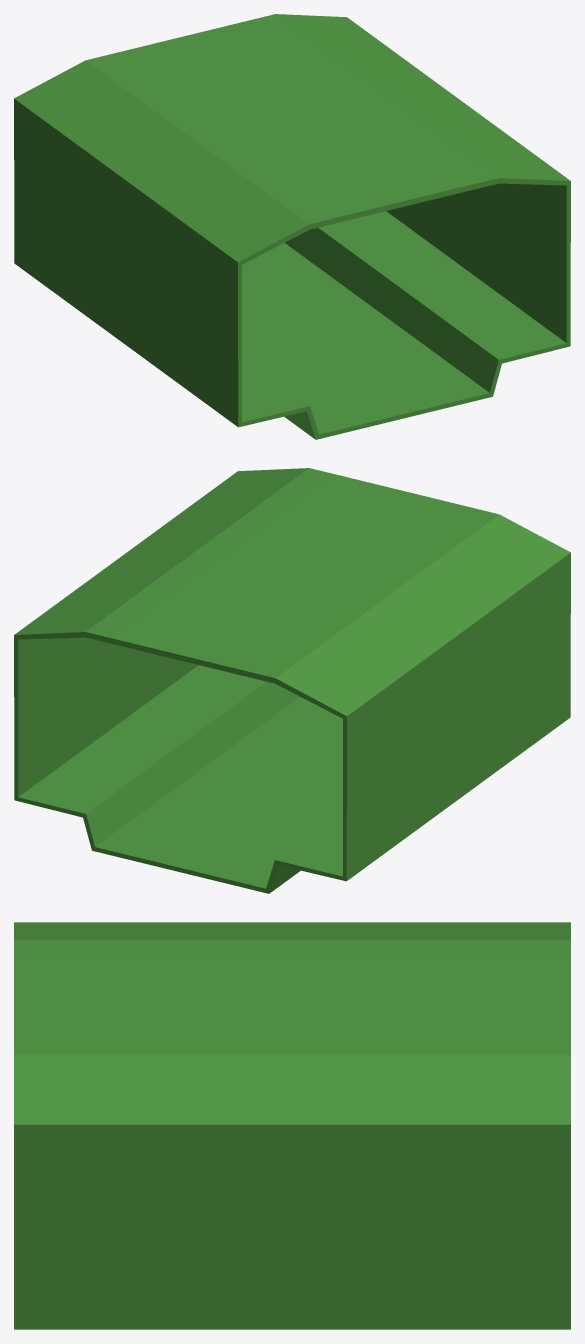
Rendered from Tunnel Basic.glb.
3 renders of one model, top to bottom at view 1: azimuth 30°, elevation 25°; view 2: azimuth 150°, elevation 25°; view 3: azimuth 270°, elevation 25°, orthographic. The views are drawn at different scales.
Parts seen in each view (by area): view 1: Tunnel Basic; view 2: Tunnel Basic; view 3: Tunnel Basic.
Boxes of the visible parts, left/top/right/bottom form: Tunnel Basic: left=14, top=14, right=570, bottom=439; Tunnel Basic: left=14, top=468, right=570, bottom=893; Tunnel Basic: left=14, top=922, right=570, bottom=1329.
Size of the model in its own units: 6.15 by 3.83 by 7.16.
